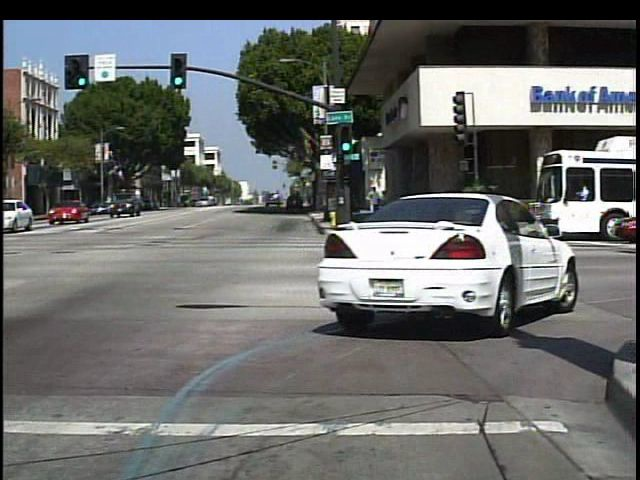person: (367, 182, 387, 222)
